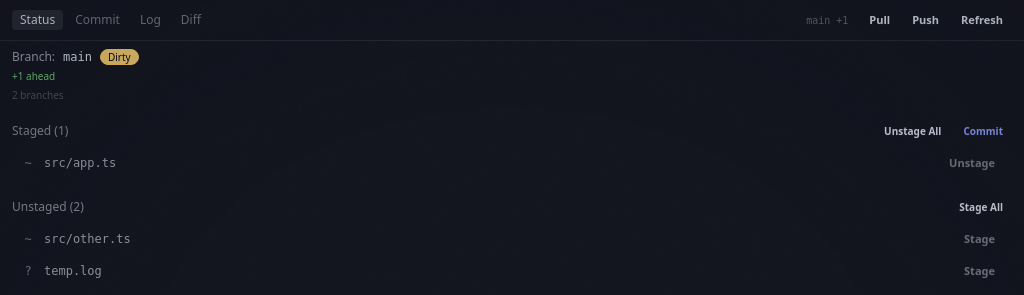
GitTab › switches to commit section
Click the button with test id "git-section-commit" at point(98, 20), box [67,10,128,30]
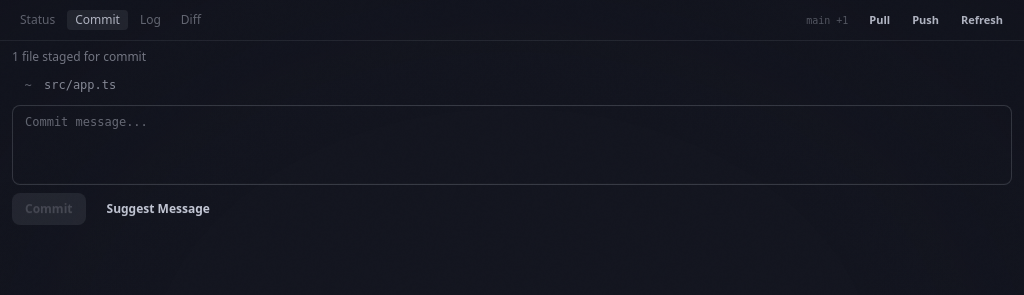
Now the text box with test id "commit-message" is shown, box [12,105,1012,185]
Now the button with test id "commit-button" is shown, box [12,193,86,225]
